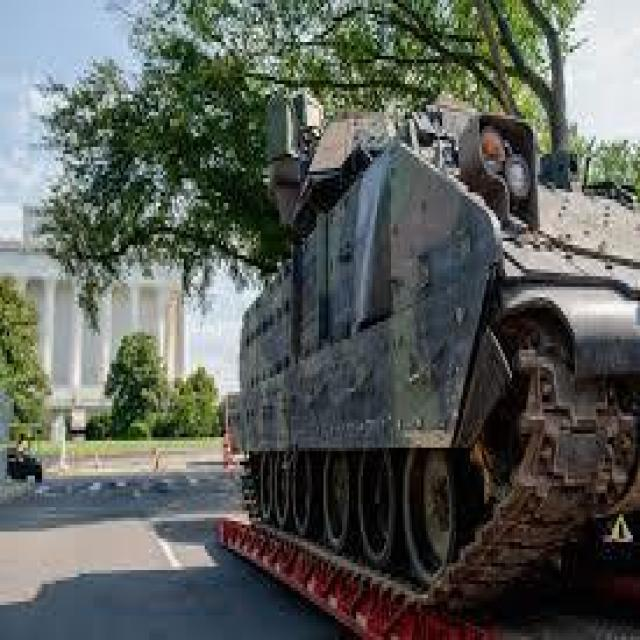Tanks: (203, 79, 570, 617)
